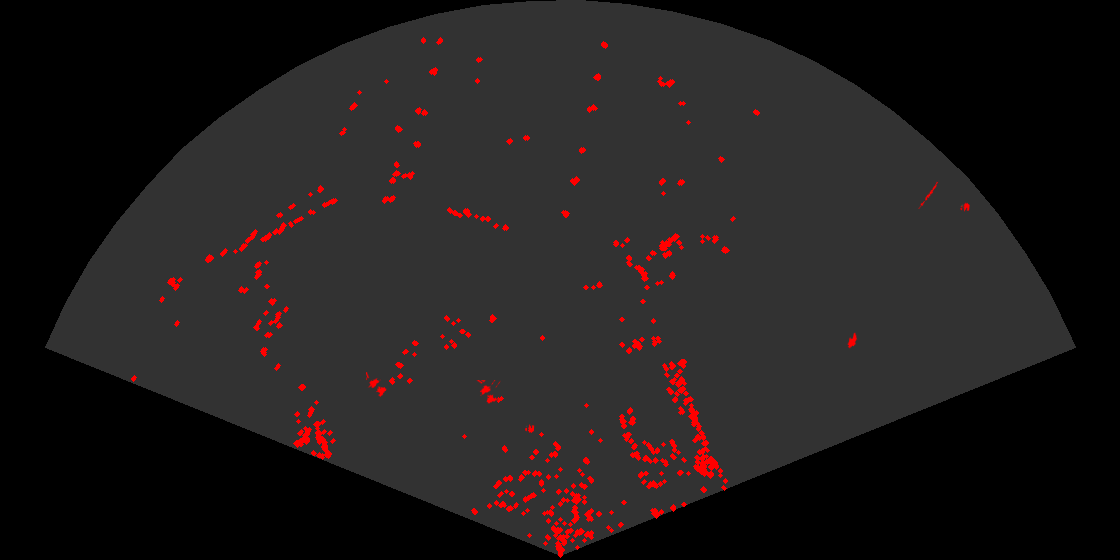AUV: (846, 331, 858, 350)
ball: (524, 423, 535, 435), (959, 201, 970, 213)
cage: (475, 380, 502, 405), (366, 372, 388, 399)
chain: (917, 180, 941, 209)
